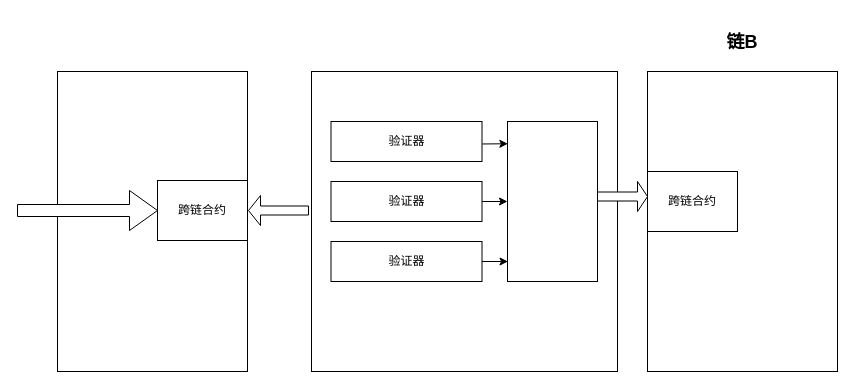
Image size: 855x389. Some labels were removed from this diagram. Here are the shapes that lost their labels. From the top down, the box of each, then its label:
(56, 70, 248, 372): 链A
(310, 70, 618, 372): 跨链桥
(506, 120, 598, 282): relayer
